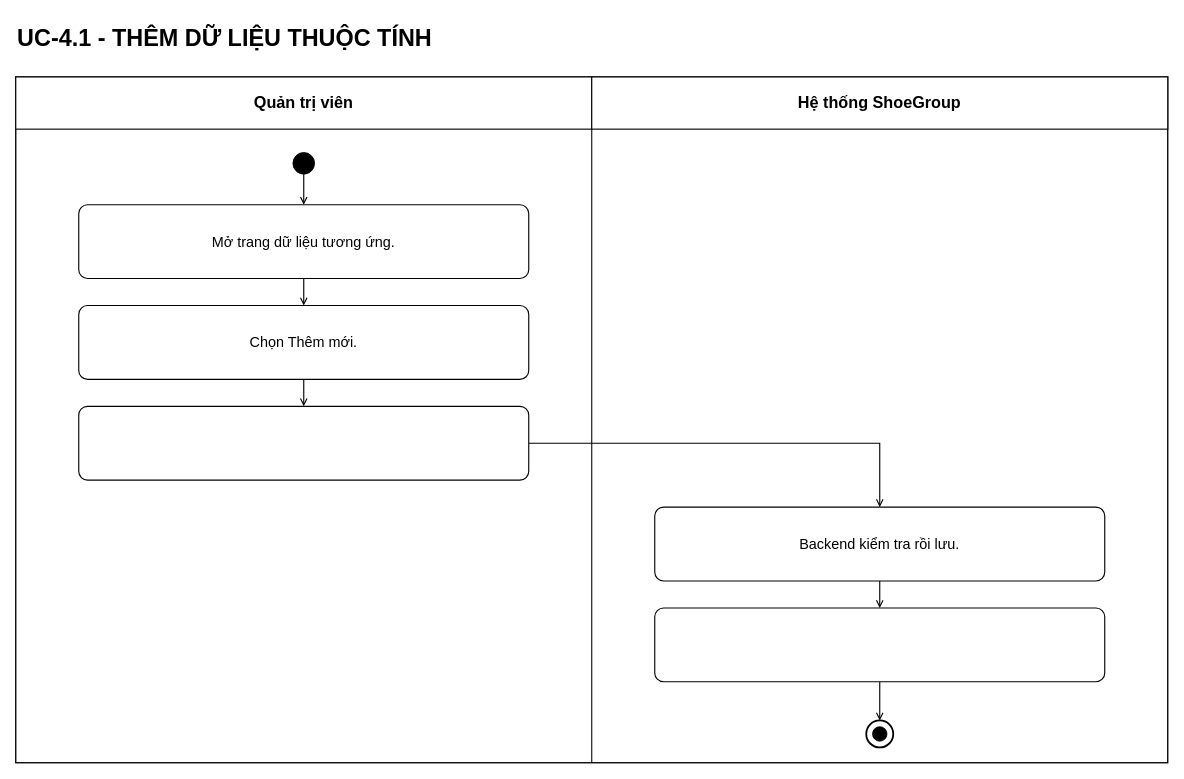
Some shapes in this 1184 by 779 pixel diagram are drawn without their labels. Each missing label, with the centre of its shape:
Làm mới danh sách.: (x=879, y=644)
Nhập tên và các trường riêng của loại dữ liệu.: (x=303, y=442)
